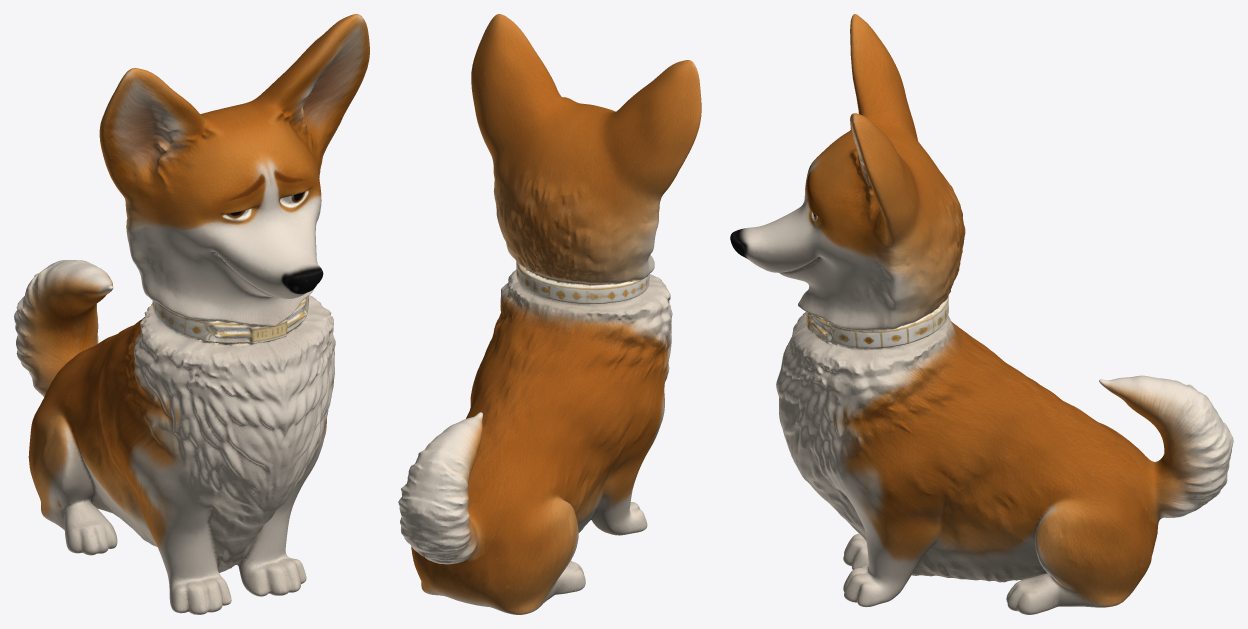
File: corgi-meshy.glb
3 renders of one model, left to right at view 1: azimuth 30°, elevation 25°; view 2: azimuth 150°, elevation 25°; view 3: azimuth 270°, elevation 25°, orthographic. The views are drawn at different scales.
Bounding box in the file's own units: 0.945 × 1.9 × 1.68.
Materials: 1 (1 with a texture image).
